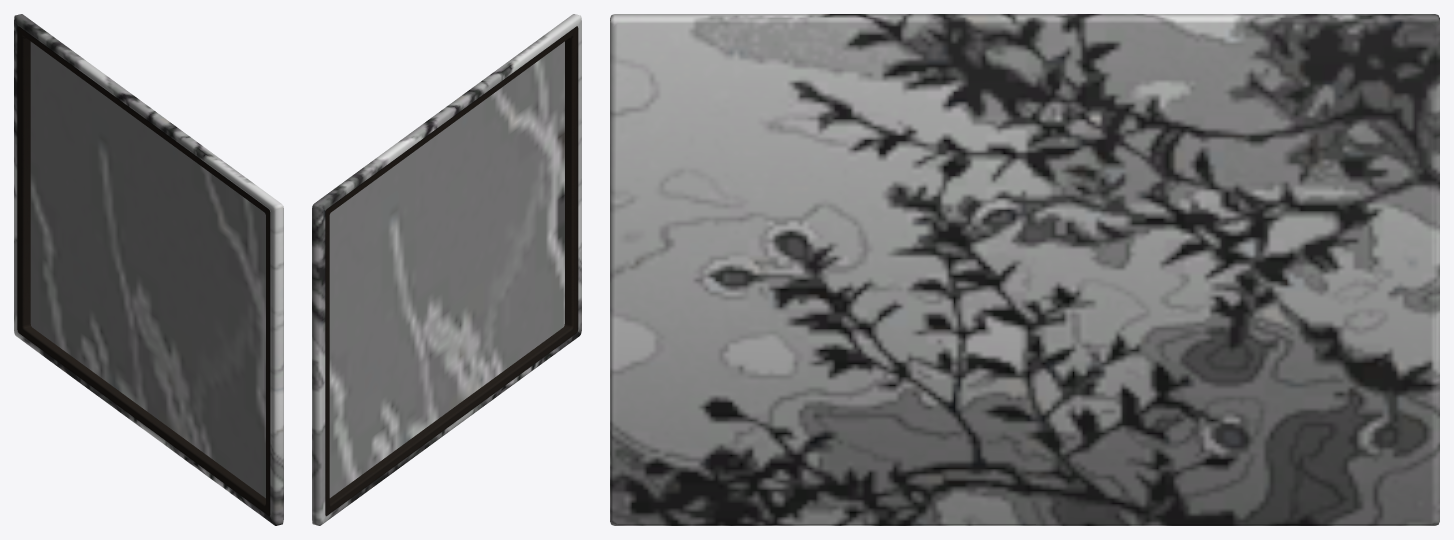
Rendered from p6_high_contrast_art_05_lod0.glb.
3 views of the same model, side by side, from view 1: azimuth 30°, elevation 25°; view 2: azimuth 150°, elevation 25°; view 3: azimuth 270°, elevation 25° (orthographic). The views are drawn at different scales.
Visible parts, largest first — view 1: surf0, surf2, surf1; view 2: surf0, surf2, surf1; view 3: surf1.
Boxes of the visible parts, x1,y1,x2,y2 form: surf0: [30, 41, 265, 498]; surf2: [17, 26, 270, 516]; surf1: [14, 14, 283, 525]; surf0: [329, 41, 564, 497]; surf2: [325, 26, 578, 516]; surf1: [312, 14, 581, 525]; surf1: [610, 14, 1439, 525].
Bounding box in the file's own units: 2 × 62 × 92.
